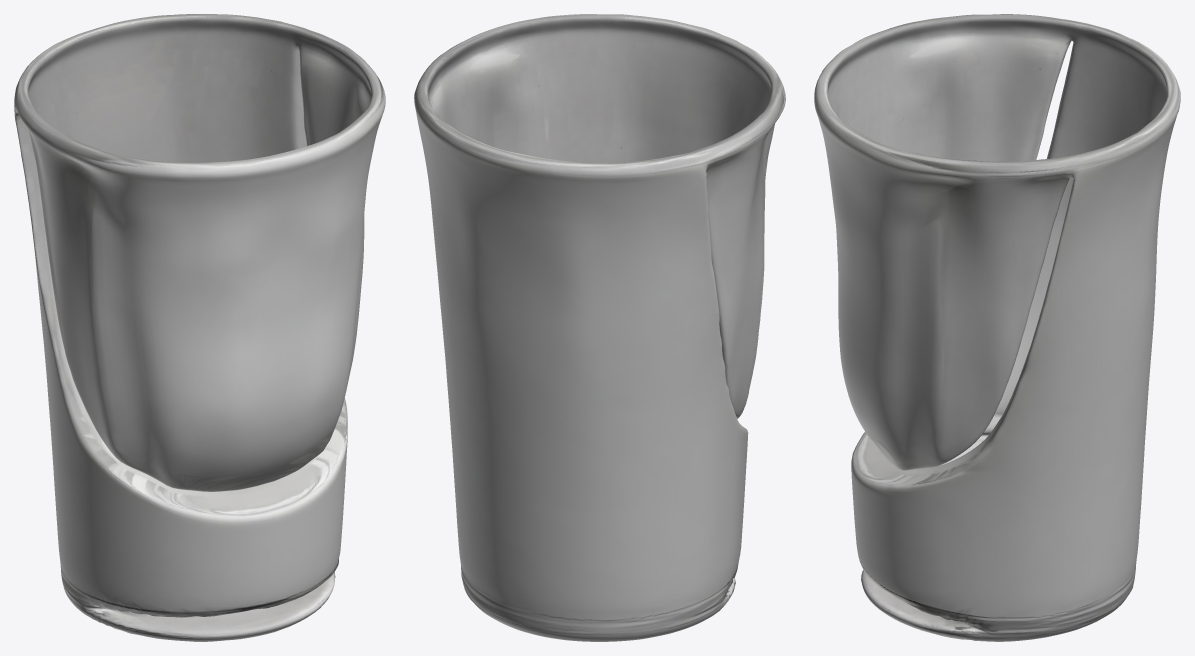
Rendered from model_shot_glass.glb.
The picture shows the model from 3 angles, left to right: view 1: azimuth 30°, elevation 25°; view 2: azimuth 150°, elevation 25°; view 3: azimuth 270°, elevation 25°; orthographic projection.
Visible parts, largest first — view 1: tripo_node_9e473445-19c4-4077-9841-b9ff605c26d2; view 2: tripo_node_9e473445-19c4-4077-9841-b9ff605c26d2; view 3: tripo_node_9e473445-19c4-4077-9841-b9ff605c26d2.
Boxes of the visible parts, left/top/right/bottom form: tripo_node_9e473445-19c4-4077-9841-b9ff605c26d2: left=14, top=14, right=385, bottom=641; tripo_node_9e473445-19c4-4077-9841-b9ff605c26d2: left=414, top=14, right=785, bottom=641; tripo_node_9e473445-19c4-4077-9841-b9ff605c26d2: left=814, top=14, right=1180, bottom=641.
Bounding box in the file's own units: 0.6662 × 0.9998 × 0.6645.
1 material, 1 textured.
